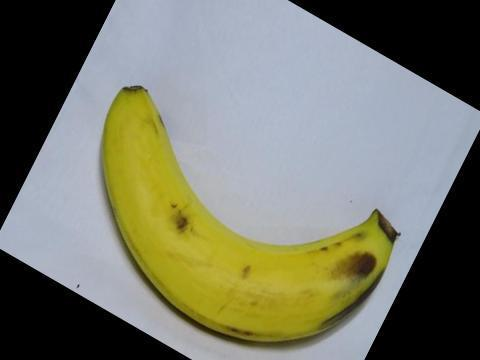freshripe: (92, 76, 403, 346)
